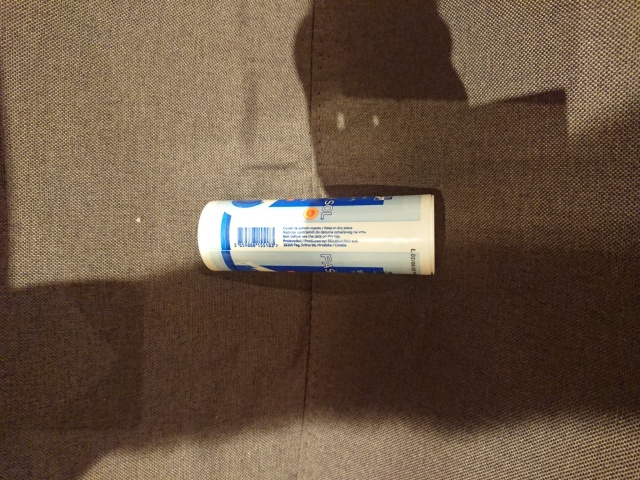Solana Pag Fine Sea Salt 250g: (195, 192, 439, 279)
